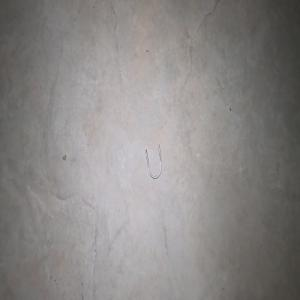ClampPart: (145, 143, 162, 179)
